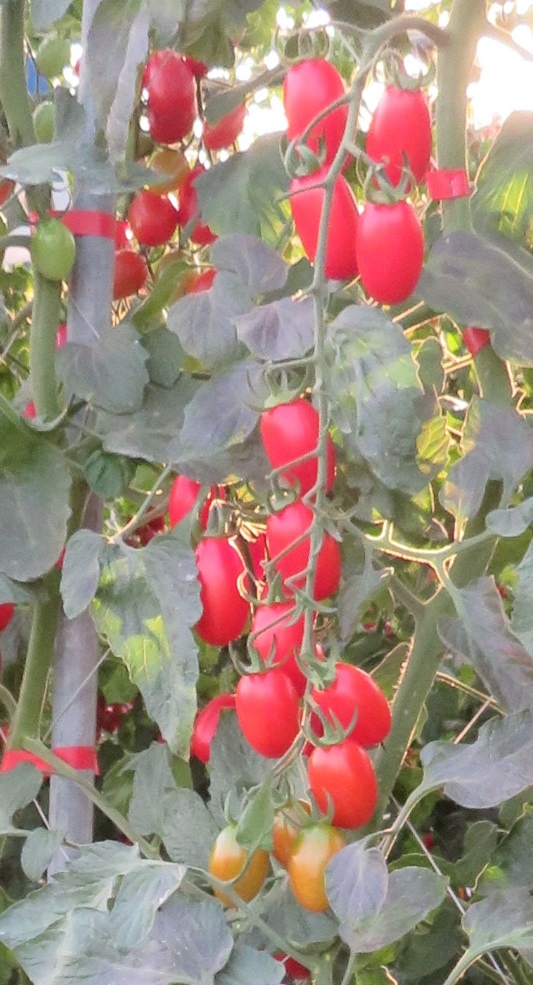green: (28, 213, 78, 280), (29, 34, 70, 75)
orange: (309, 729, 379, 831), (286, 823, 355, 917), (208, 819, 269, 914)
red: (282, 163, 358, 284), (257, 393, 337, 499), (354, 194, 426, 311), (282, 61, 359, 158), (235, 664, 299, 765), (191, 539, 252, 642), (371, 77, 431, 177), (314, 661, 394, 734), (143, 48, 199, 146), (167, 472, 227, 541), (126, 188, 181, 249), (107, 251, 150, 301)
